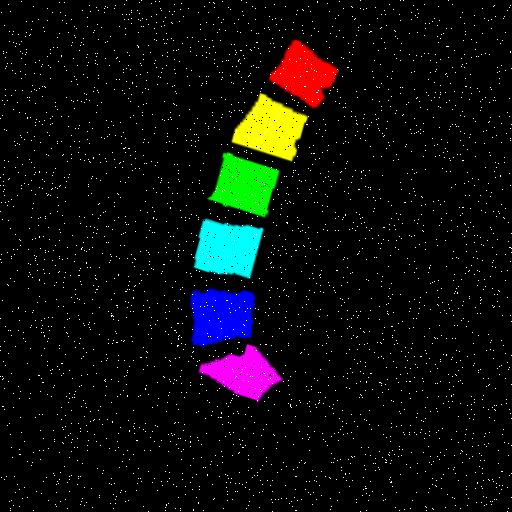L1: (266, 43, 335, 111)
L2: (228, 96, 303, 163)
L3: (204, 156, 273, 220)
L4: (188, 224, 257, 282)
L5: (183, 292, 246, 348)
S1: (191, 348, 272, 404)
